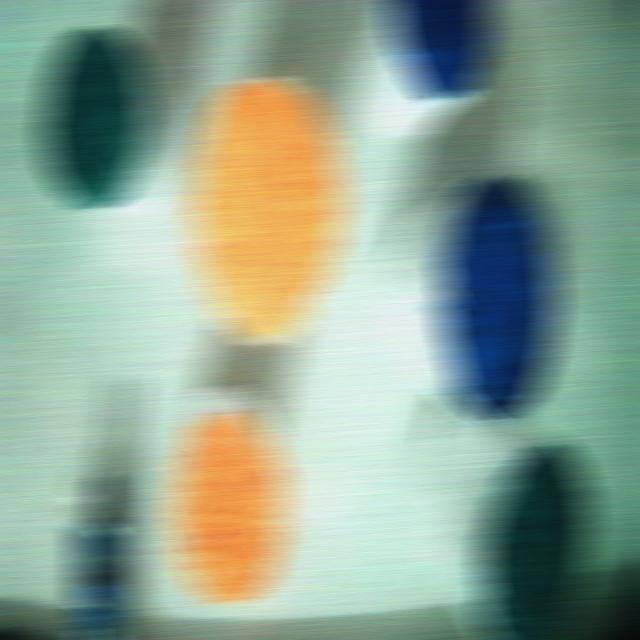blue: (437, 176, 558, 420), (387, 0, 492, 97)
green: (478, 445, 593, 639), (40, 26, 151, 207)
yellow: (188, 77, 345, 344), (169, 414, 288, 602)
